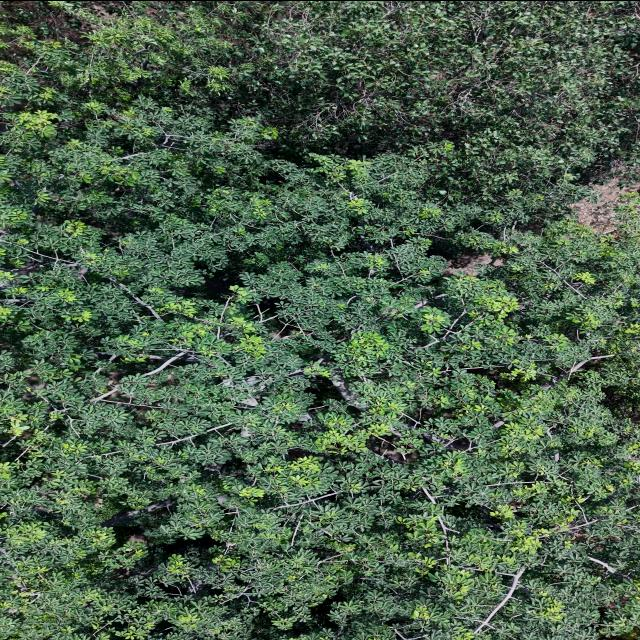VEGETATION_TREE: (0, 1, 639, 639)
